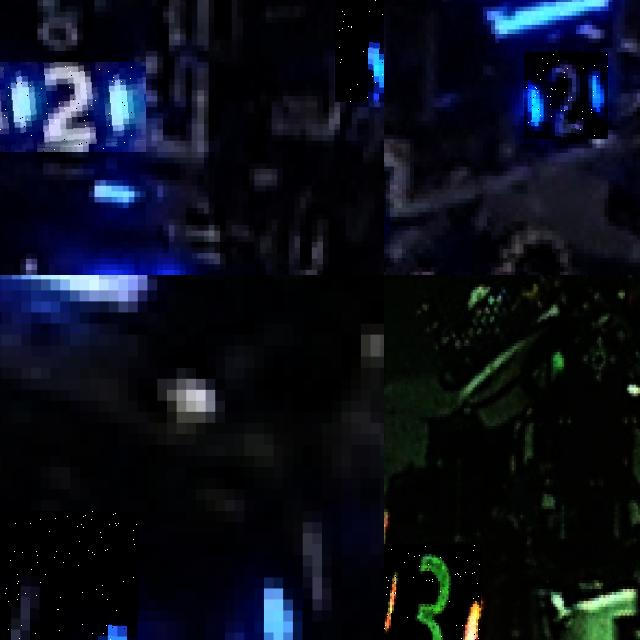B1: (0, 511, 137, 640)
B2: (0, 62, 146, 152), (524, 52, 608, 139), (334, 0, 384, 101)
R3: (384, 544, 481, 640)
